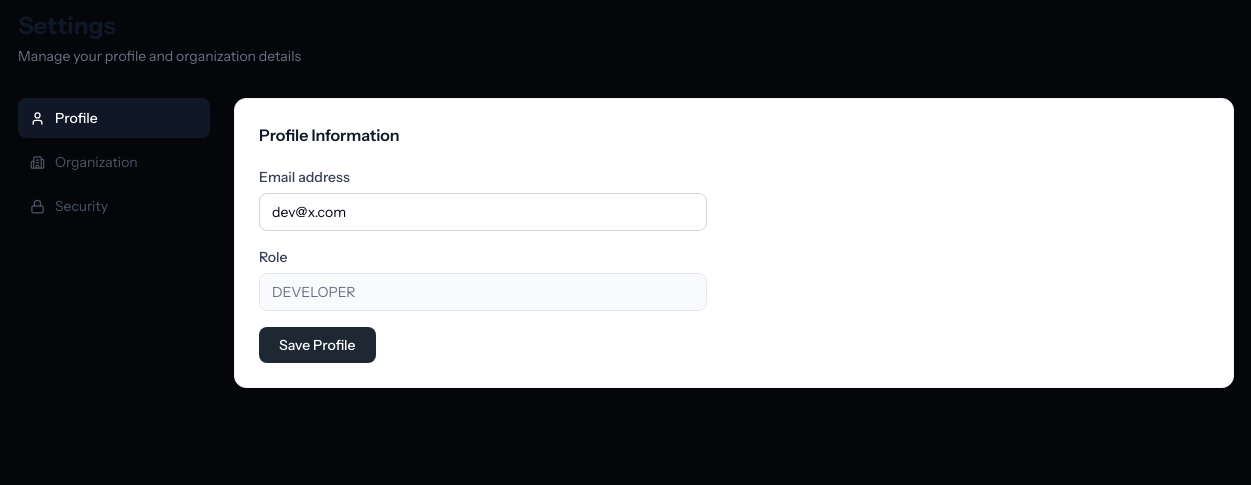
Test case: SettingsPage › keeps Change Password disabled until the new passwords match
The width and height of the screenshot is (1251, 485).
Click the button "Security" at {"x": 114, "y": 206}, box [18, 186, 210, 226]
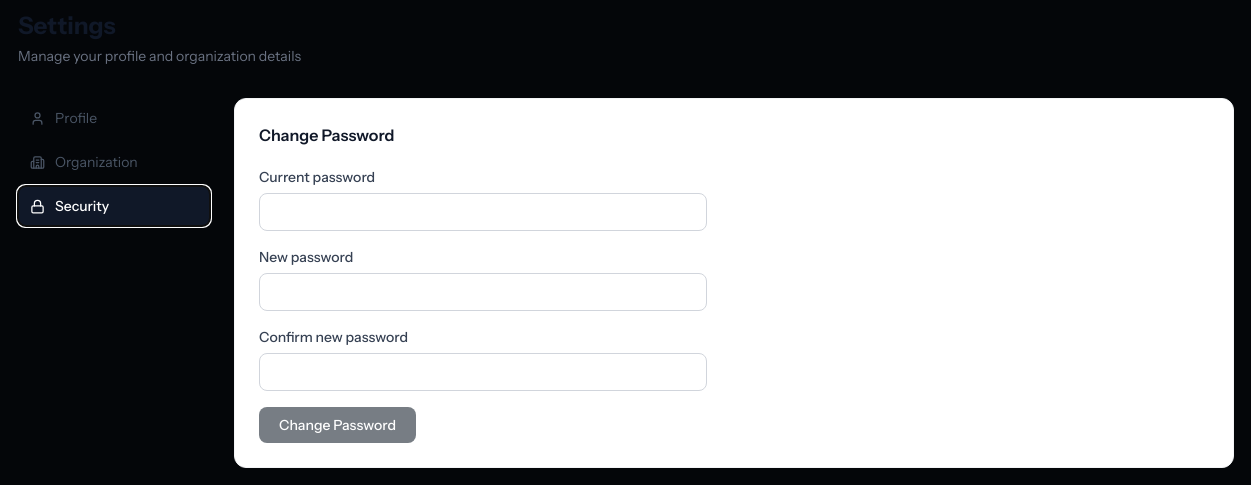
Now the button "Change Password" is disabled, box [259, 407, 416, 443]
Type "oldpw" into the password field below "Current password" at {"x": 483, "y": 212}, box [259, 193, 707, 231]
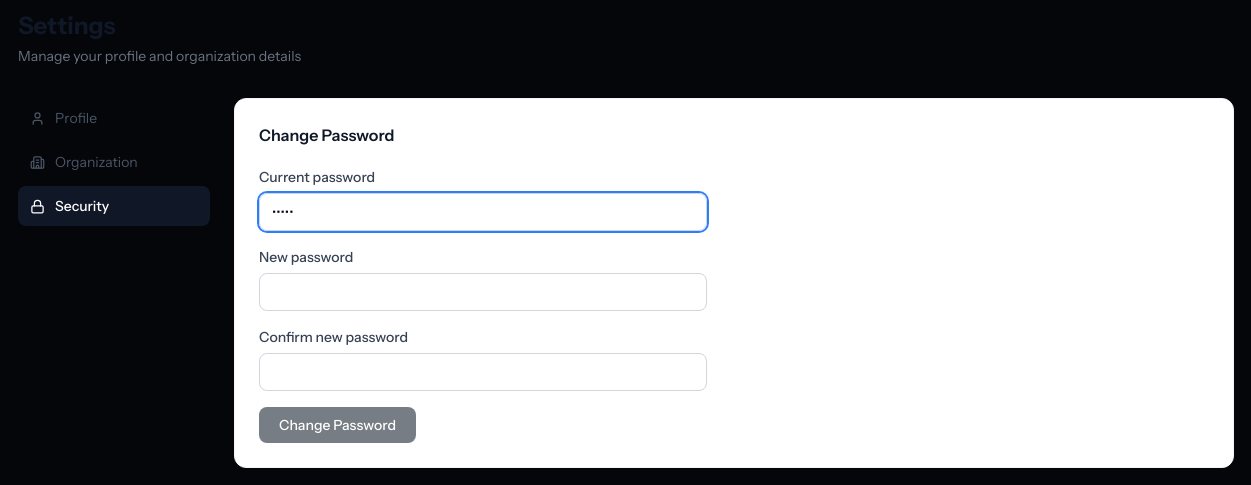
Type "newpw1" into the 2nd password field at {"x": 483, "y": 292}, box [259, 273, 707, 311]
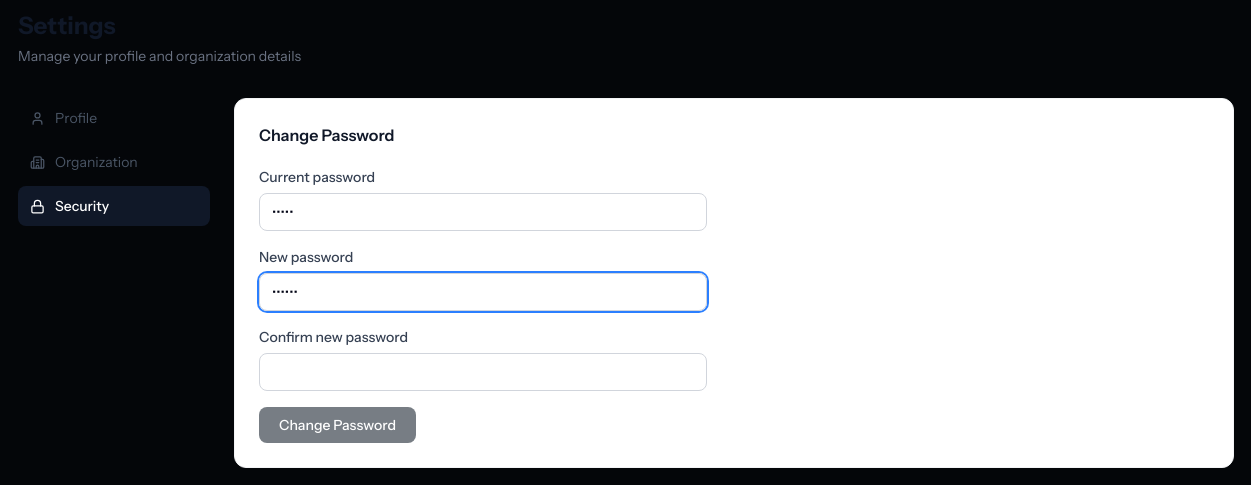
Type "different" into the password field below "Confirm new password" at {"x": 483, "y": 372}, box [259, 353, 707, 391]
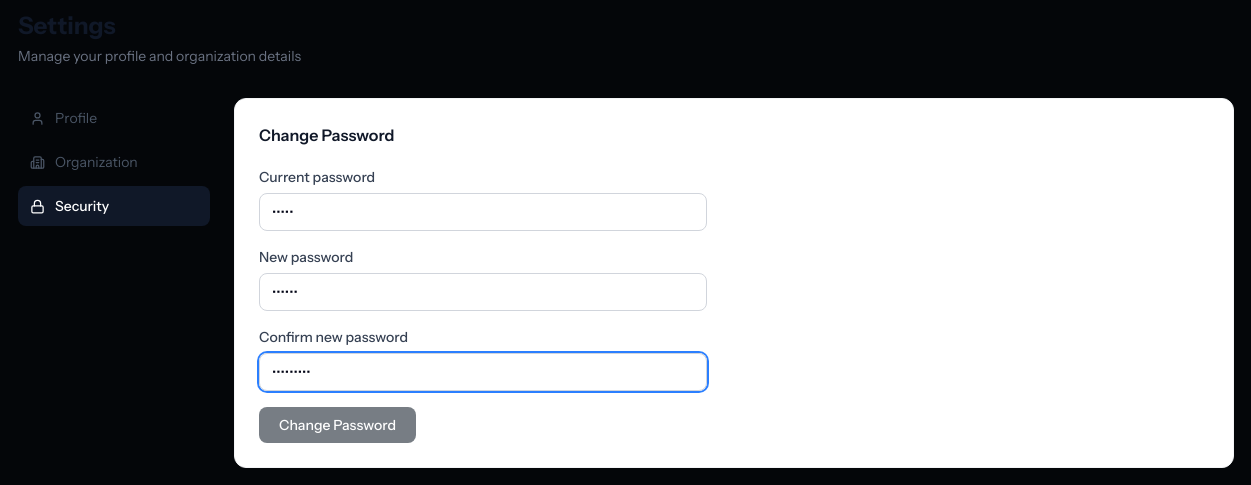
Now the button "Change Password" is disabled, box [259, 407, 416, 443]
Type "newpw1" into the password field below "Confirm new password" at {"x": 483, "y": 372}, box [259, 353, 707, 391]
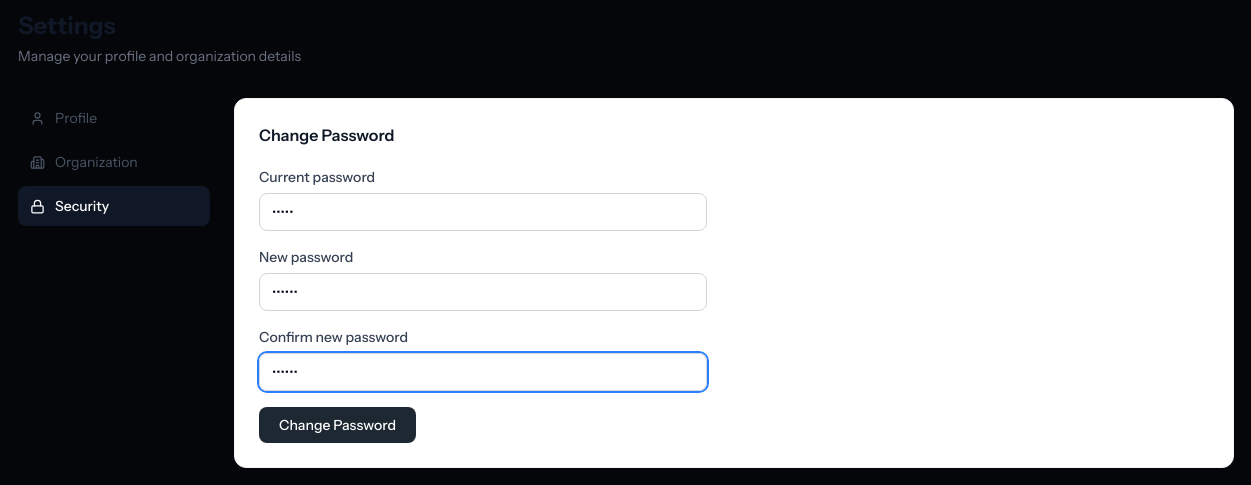
Now the button "Change Password" is enabled, box [259, 407, 416, 443]
